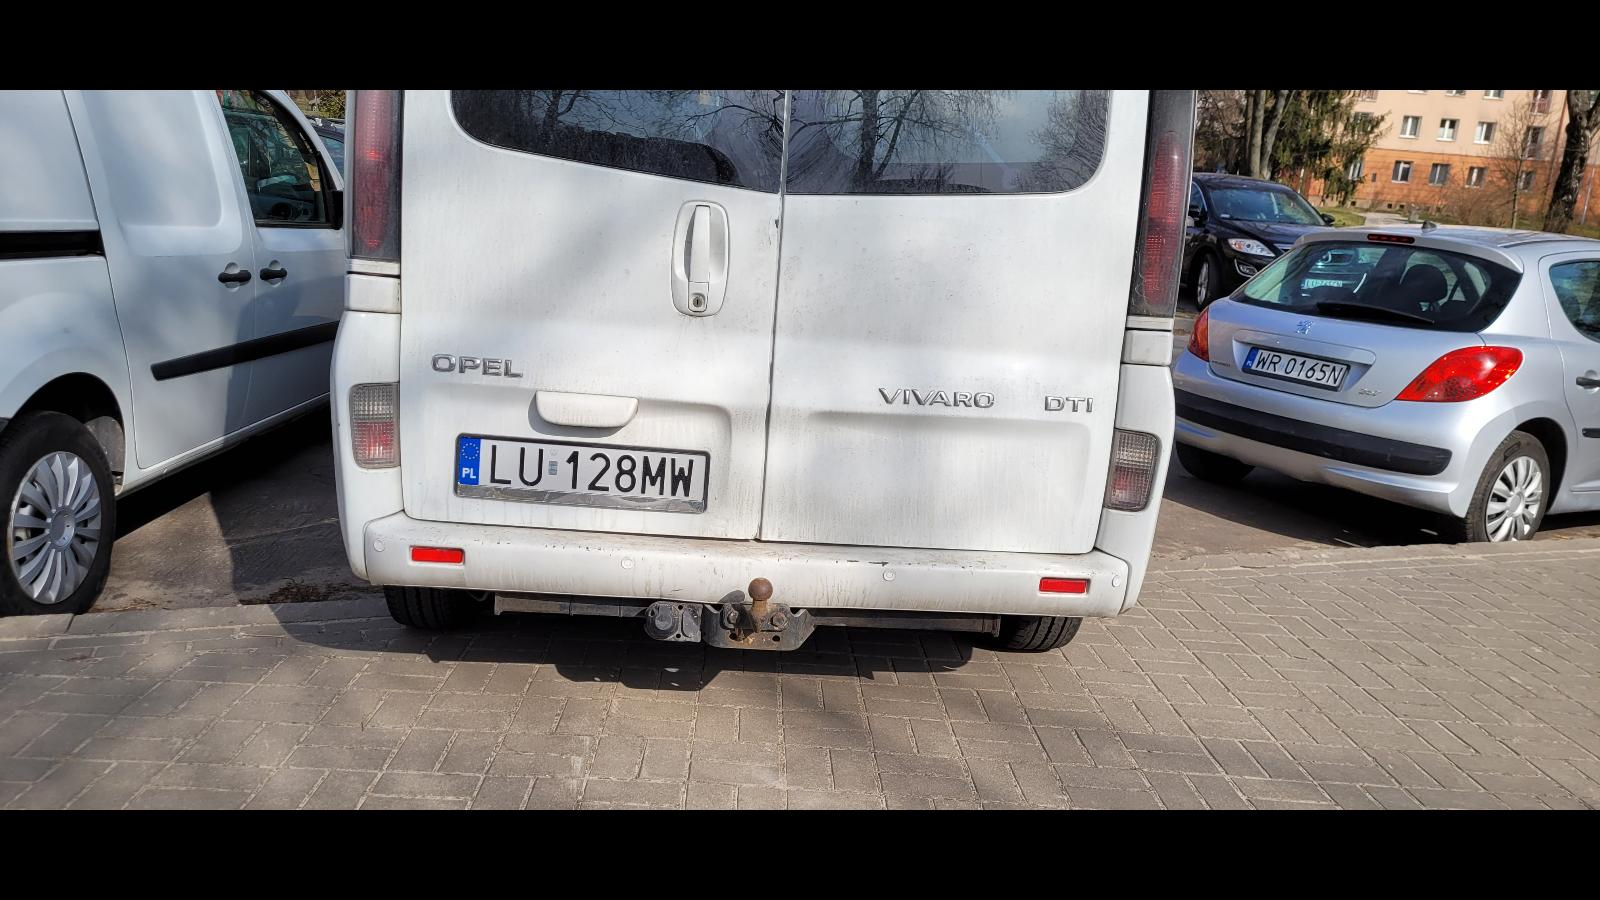plates: (454, 432, 710, 514), (1242, 346, 1350, 392)
